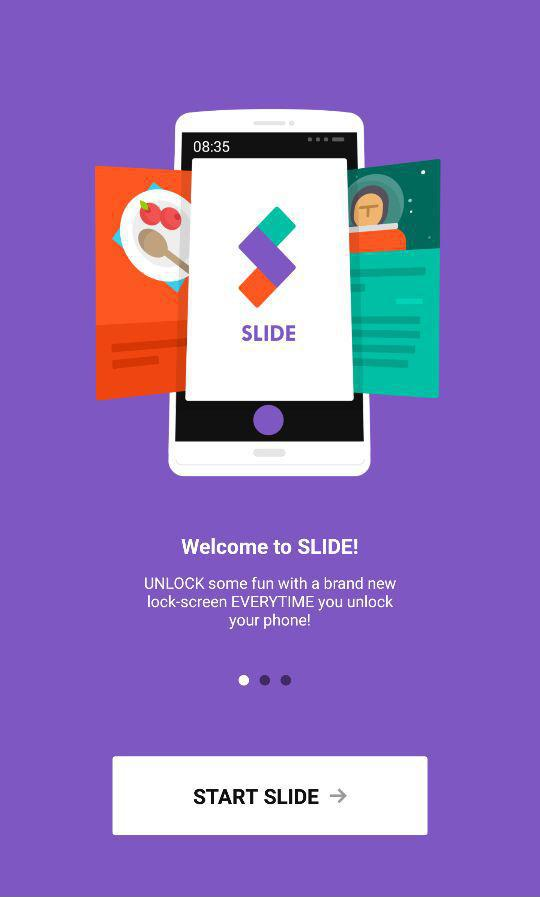Image: (94, 108, 441, 478)
PageIndicator: (237, 673, 294, 689)
Text: (144, 575, 398, 631), (180, 537, 360, 556)
TextButton: (112, 755, 429, 836)
